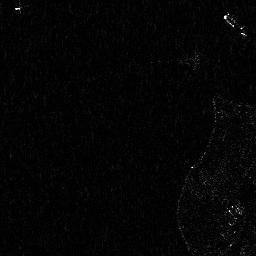ship: (224, 11, 249, 37)
